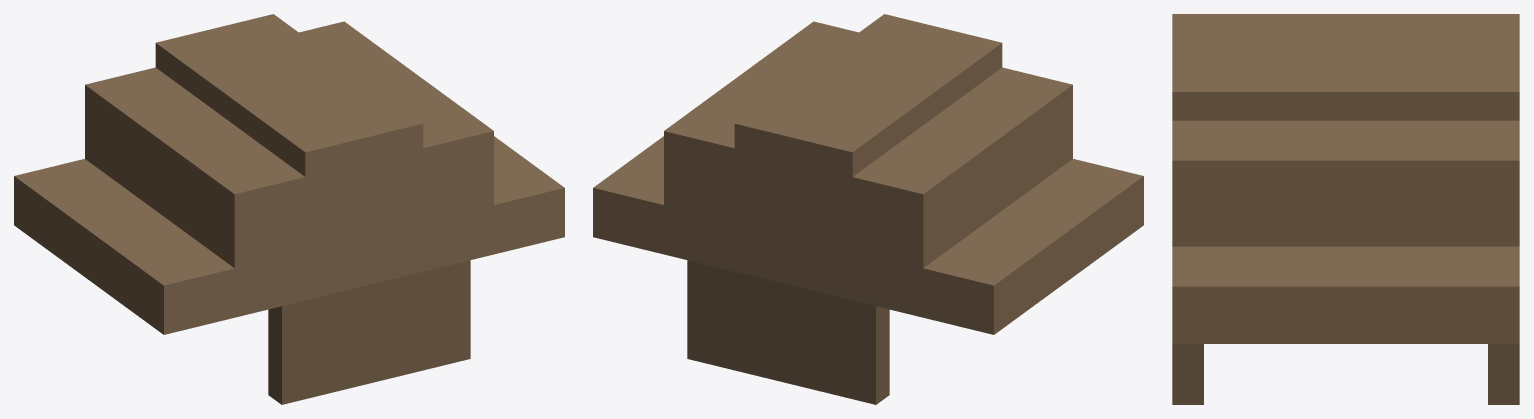
File: silla_montar_01.glb
3 views of the same model, side by side, from view 1: azimuth 30°, elevation 25°; view 2: azimuth 150°, elevation 25°; view 3: azimuth 270°, elevation 25° (orthographic). The views are drawn at different scales.
Parts seen in each view (by area): view 1: silla_montar; view 2: silla_montar; view 3: silla_montar.
Part boxes in pixels (left/top/right/bottom): silla_montar: left=14, top=14, right=564, bottom=404; silla_montar: left=593, top=14, right=1143, bottom=404; silla_montar: left=1172, top=14, right=1519, bottom=404.
Size of the model in its own units: 1.42 by 0.8333 by 0.9167.
